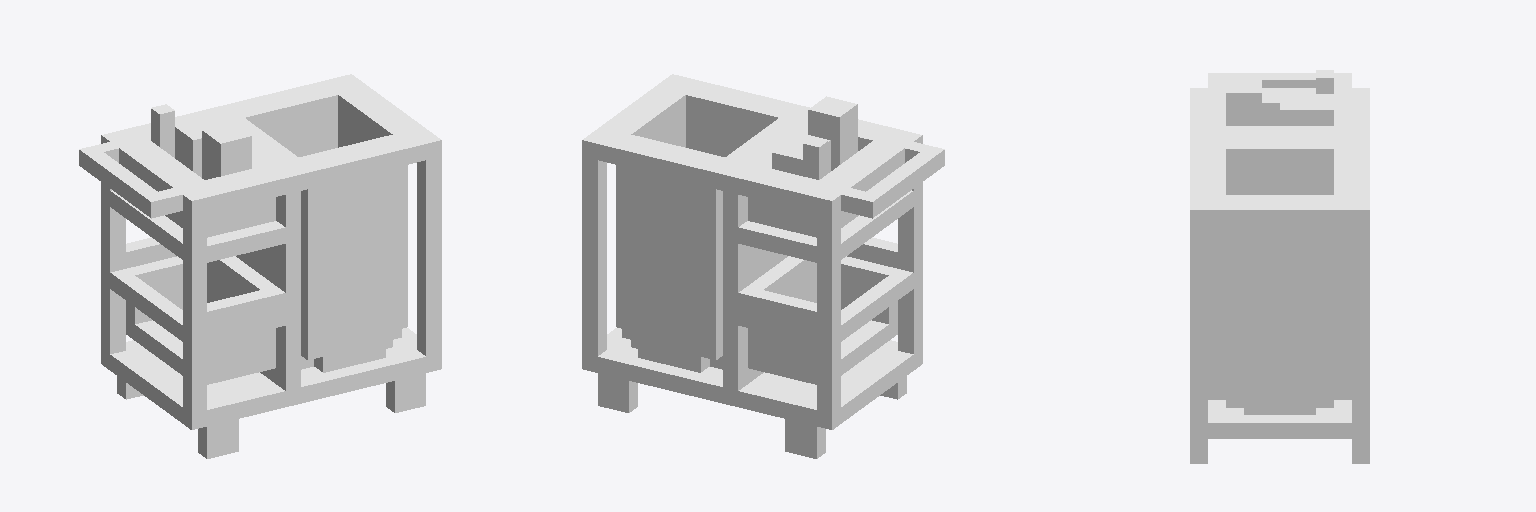
File: MopBucket.obj
3 views of the same model, side by side, from view 1: azimuth 30°, elevation 25°; view 2: azimuth 150°, elevation 25°; view 3: azimuth 270°, elevation 25° (orthographic).
Parts seen in each view (by area): view 1: MopBucket; view 2: MopBucket; view 3: MopBucket.
Boxes of the visible parts, <box> form: MopBucket: <box>79,74,441,458</box>; MopBucket: <box>582,74,944,458</box>; MopBucket: <box>1190,70,1369,463</box>.
Bounding box in the file's own units: 18 × 18 × 10.